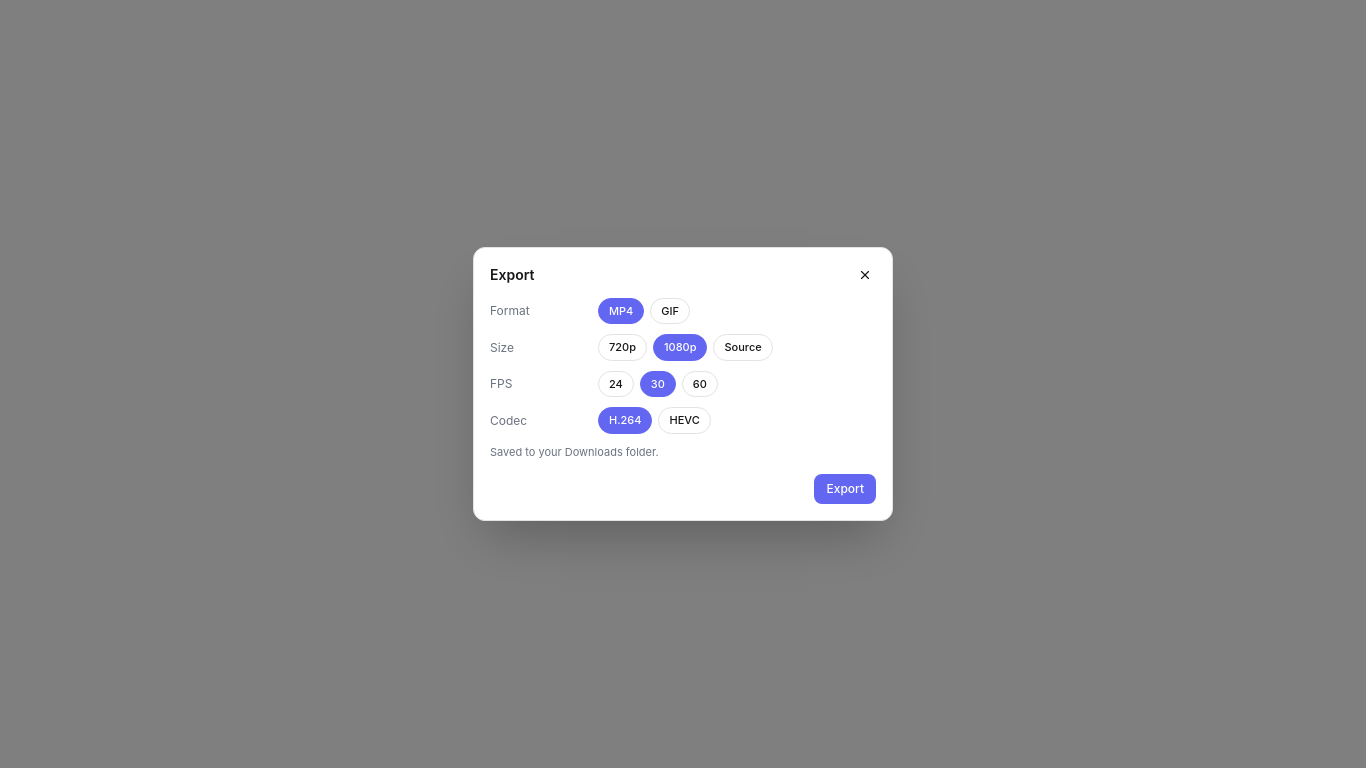
Test: ExportDialog › MP4 offers the codec and the three sizes; GIF hides the codec
Expected: the button "H.264" is shown, [598,407,652,434]
Expected: the button "HEVC" is shown, [658,407,711,434]
Click the button "GIF" at (670, 311), box [650,298,690,324]
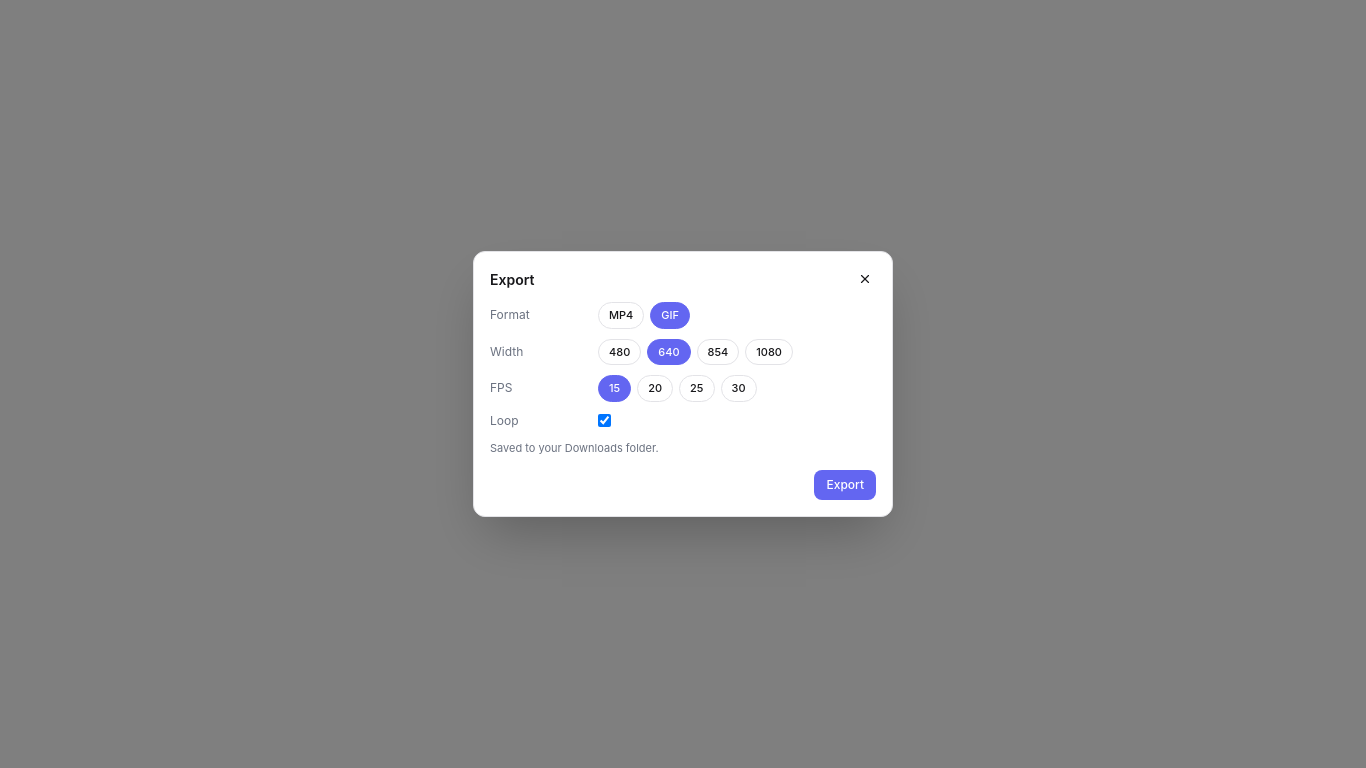
Expected: the button "H.264" is gone
Expected: the button "HEVC" is gone
Expected: the button "720p" is gone
